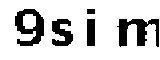9: (12, 7, 47, 48)
i: (84, 4, 102, 51)
m: (109, 13, 160, 50)
s: (48, 17, 77, 50)
